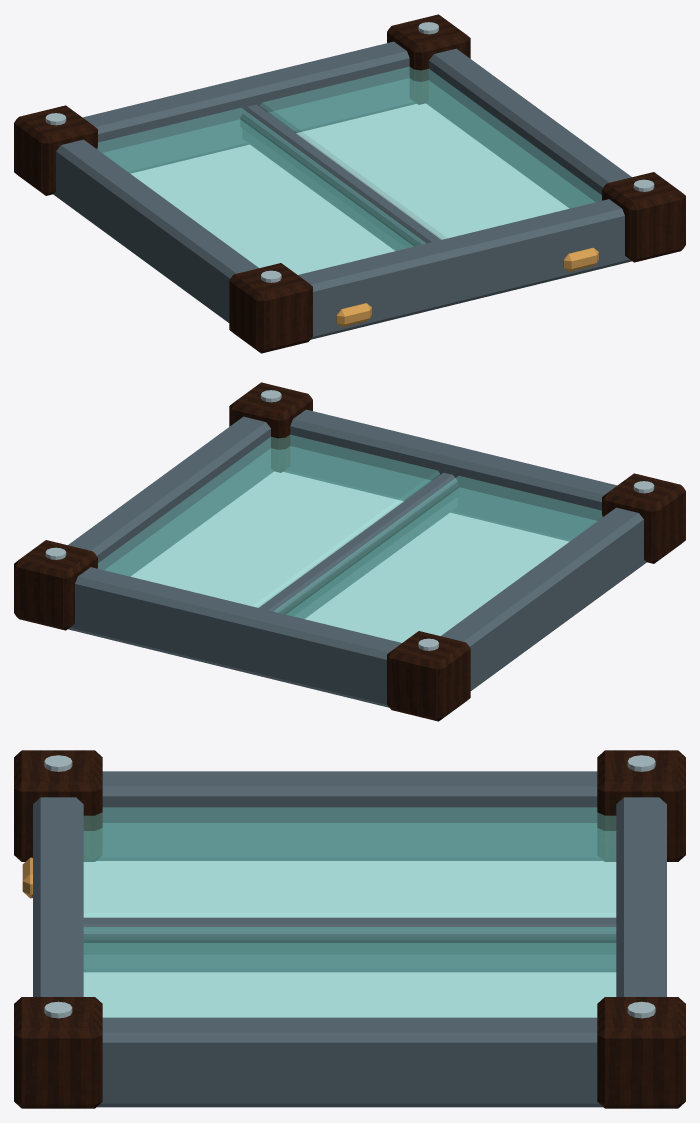
The model's file is teto-cultivo.glb.
3 renders of one model, top to bottom at view 1: azimuth 30°, elevation 25°; view 2: azimuth 150°, elevation 25°; view 3: azimuth 270°, elevation 25°, orthographic. The views are drawn at different scales.
Visible parts, largest first — view 1: Canto encaixável; view 2: Canto encaixável; view 3: Canto encaixável.
Boxes of the visible parts, box(x1,y1,x2,y2) form: Canto encaixável: box(14, 14, 685, 353); Canto encaixável: box(14, 382, 685, 721); Canto encaixável: box(14, 750, 685, 1108).
Bounding box in the file's own units: 1.06 × 0.1605 × 1.06.
Materials: 6 (1 with a texture image).
